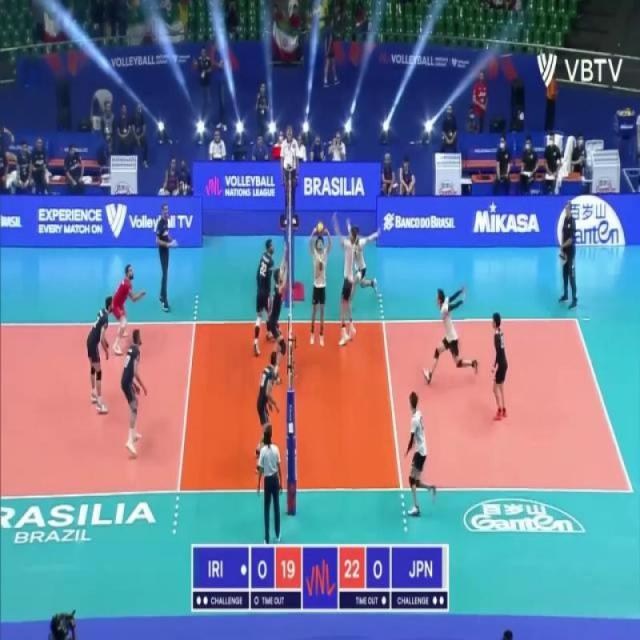volleyball: (316, 222, 324, 238), (620, 107, 631, 116)
